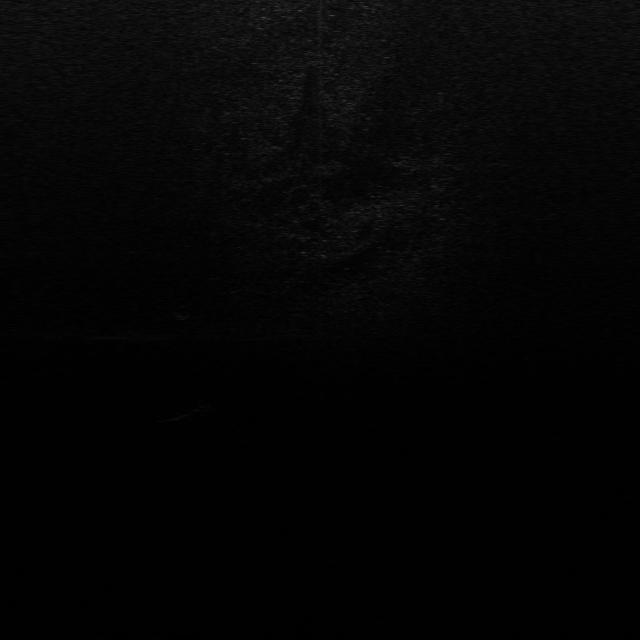ball: (186, 392, 218, 418)
circle cage: (169, 303, 193, 322)
